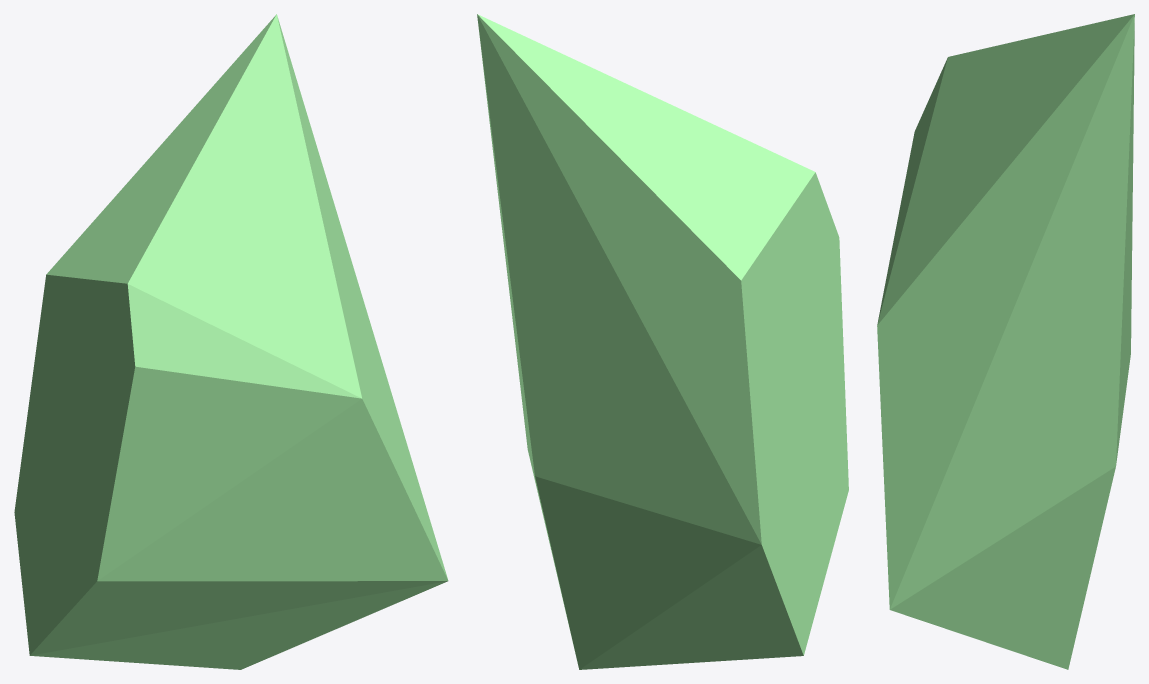
Rendered from UMIRobot_UMIRobot_link_5_convex_coll_27.dae.
3 renders of one model, left to right at view 1: azimuth 30°, elevation 25°; view 2: azimuth 150°, elevation 25°; view 3: azimuth 270°, elevation 25°, orthographic. The views are drawn at different scales.
Parts seen in each view (by area): view 1: node; view 2: node; view 3: node.
Boxes of the visible parts, x1,y1,x2,y2 form: node: [14, 14, 448, 669]; node: [477, 14, 848, 669]; node: [877, 14, 1134, 669].
Size of the model in its own units: 0.00298 by 0.0052 by 0.00175.
